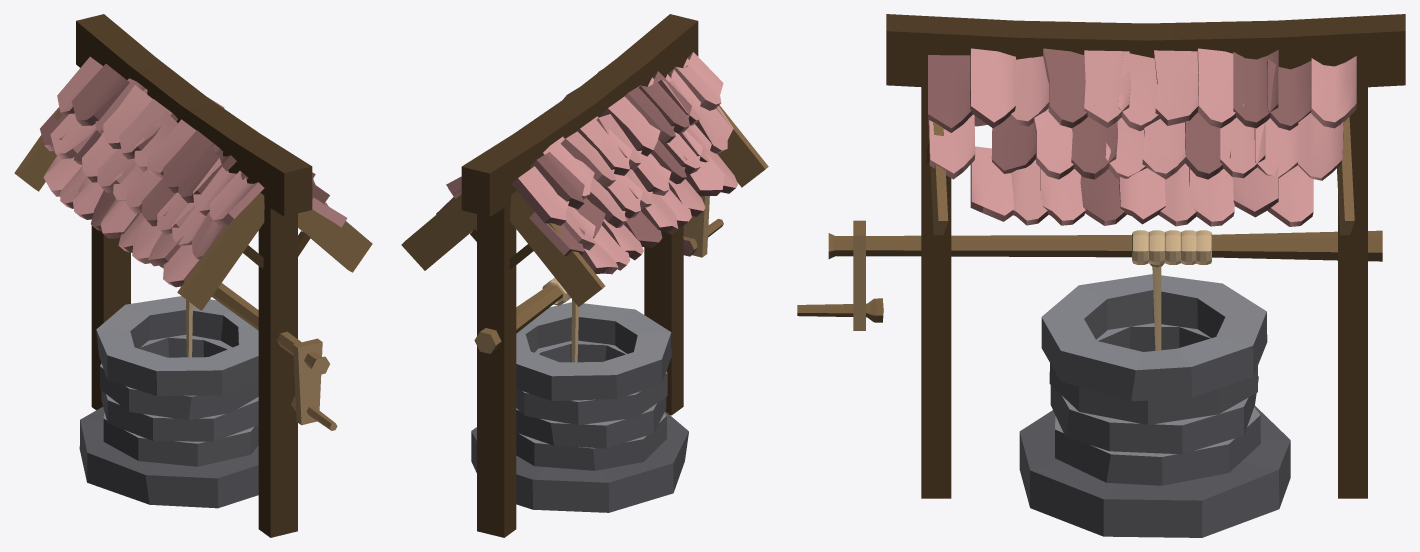
Rendered from Well.fbx.
The picture shows the model from 3 angles, left to right: view 1: azimuth 30°, elevation 25°; view 2: azimuth 150°, elevation 25°; view 3: azimuth 270°, elevation 25°; orthographic projection. The views are drawn at different scales.
Parts seen in each view (by area): view 1: Well; view 2: Well; view 3: Well.
Boxes of the visible parts, x1,y1,x2,y2 form: Well: (14,14,372,537); Well: (401,14,768,537); Well: (797,14,1405,537).
Size of the model in its own units: 197 by 359 by 423.
1 material, 1 textured.
